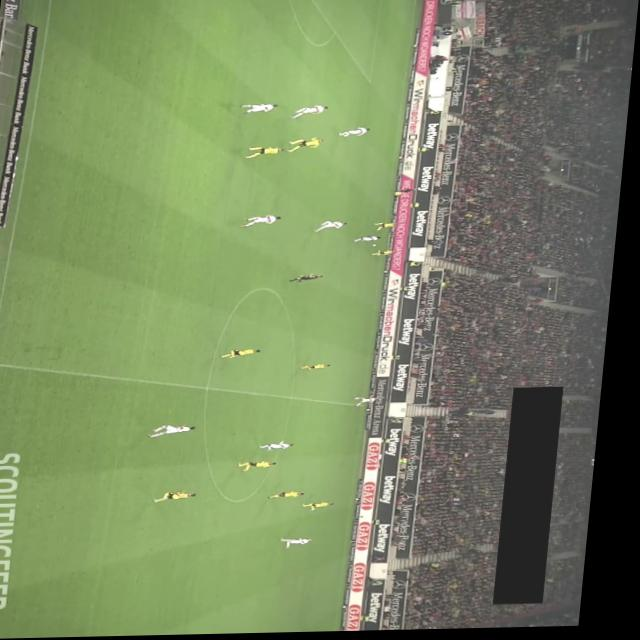player: (155, 425, 204, 439), (291, 106, 331, 121), (288, 139, 327, 154), (162, 491, 206, 504), (244, 216, 285, 229), (247, 147, 287, 160), (241, 104, 280, 116), (227, 349, 269, 360), (246, 462, 286, 473), (317, 222, 352, 234), (341, 128, 374, 139), (267, 442, 302, 452), (277, 492, 315, 500), (311, 503, 343, 512), (361, 398, 387, 409), (290, 539, 323, 547), (378, 224, 402, 233), (306, 366, 338, 372), (357, 238, 385, 244), (376, 252, 398, 258)
referee: (294, 274, 329, 284), (397, 190, 421, 197)
